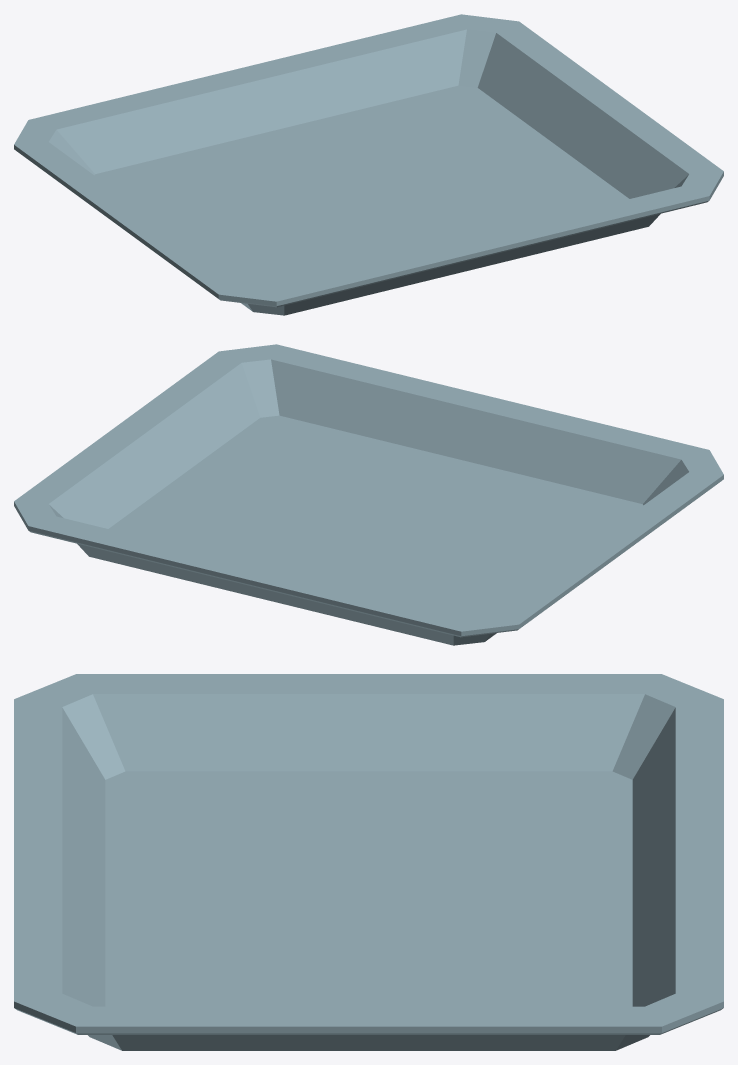
Rendered from KAC-F600_OvenTray_V2.glb.
3 renders of one model, top to bottom at view 1: azimuth 30°, elevation 25°; view 2: azimuth 150°, elevation 25°; view 3: azimuth 270°, elevation 25°, orthographic. The views are drawn at different scales.
Visible parts, largest first — view 1: KAC-F600_OvenTray_V2; view 2: KAC-F600_OvenTray_V2; view 3: KAC-F600_OvenTray_V2.
Part boxes in pixels (box(x1,y1,x2,y2)): KAC-F600_OvenTray_V2: box(14, 14, 723, 315); KAC-F600_OvenTray_V2: box(14, 344, 723, 645); KAC-F600_OvenTray_V2: box(14, 674, 723, 1050).
Size of the model in its own units: 0.47 by 0.037 by 0.4.
Materials: 1 (1 with a texture image).
